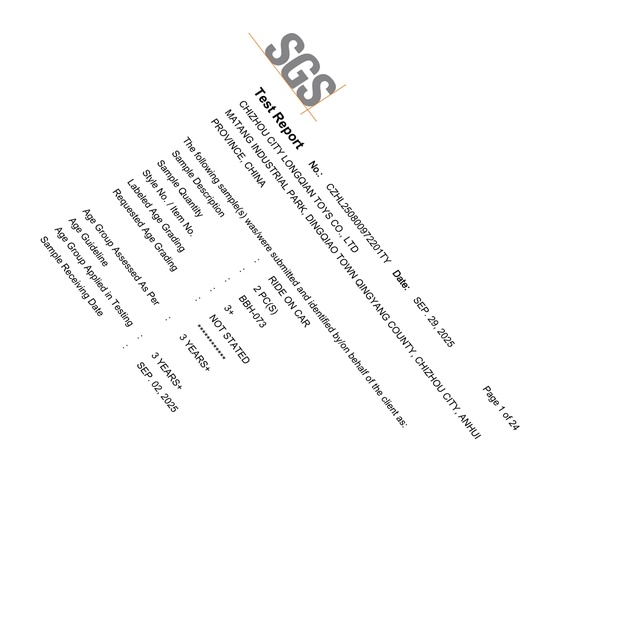sgs: (266, 32, 335, 107)
